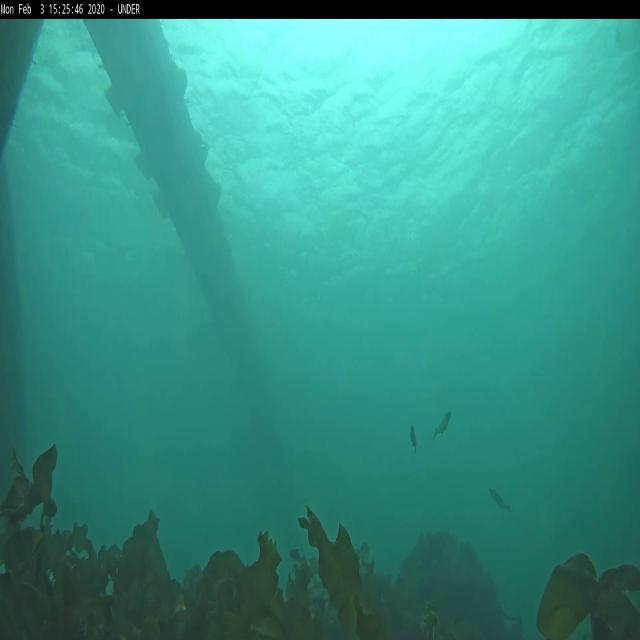fish: (488, 486, 512, 514), (433, 410, 453, 440), (408, 426, 420, 456)
